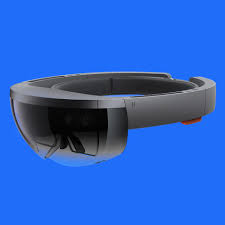hololens: (10, 71, 216, 165)
